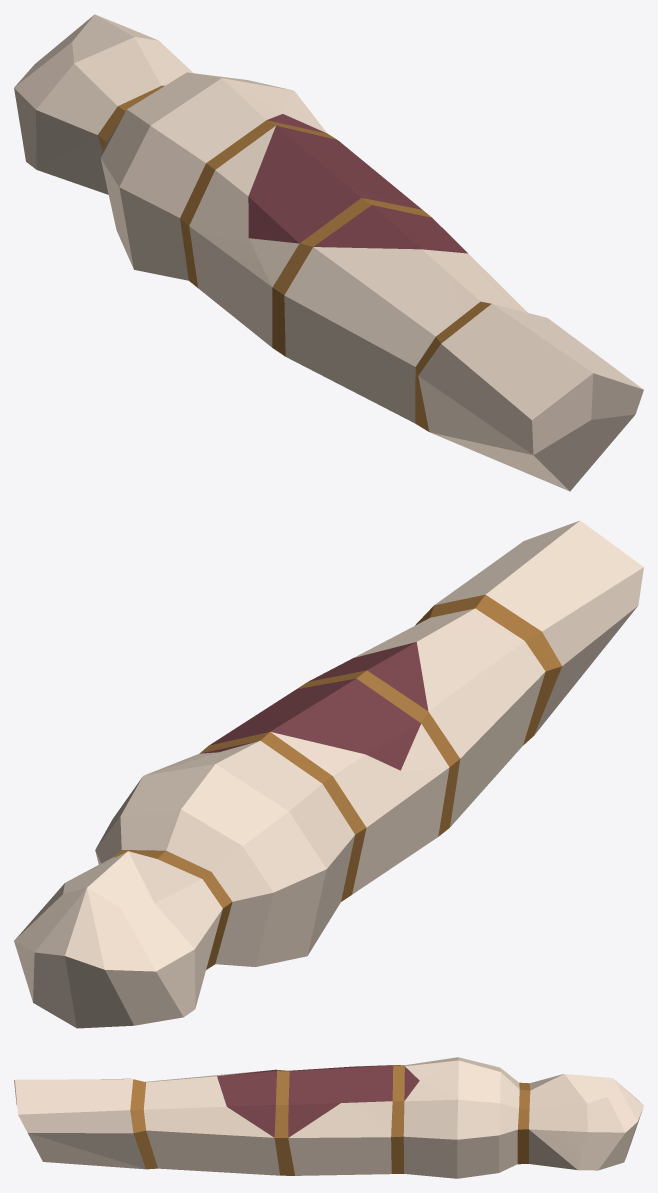
Rendered from apocalypse_body-packed-bloody-b.fbx.
3 views of the same model, one above another, from view 1: azimuth 30°, elevation 25°; view 2: azimuth 150°, elevation 25°; view 3: azimuth 270°, elevation 25° (orthographic). The views are drawn at different scales.
Parts seen in each view (by area): view 1: apocalypse_body_packed_bloody_b; view 2: apocalypse_body_packed_bloody_b; view 3: apocalypse_body_packed_bloody_b.
Boxes of the visible parts, x1,y1,x2,y2 form: apocalypse_body_packed_bloody_b: [14, 14, 643, 491]; apocalypse_body_packed_bloody_b: [14, 520, 643, 1028]; apocalypse_body_packed_bloody_b: [14, 1057, 643, 1178].
Size of the model in its own units: 46.5 by 36 by 200.
